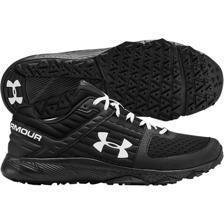Hand: (41, 89, 105, 206), (74, 86, 151, 177)
